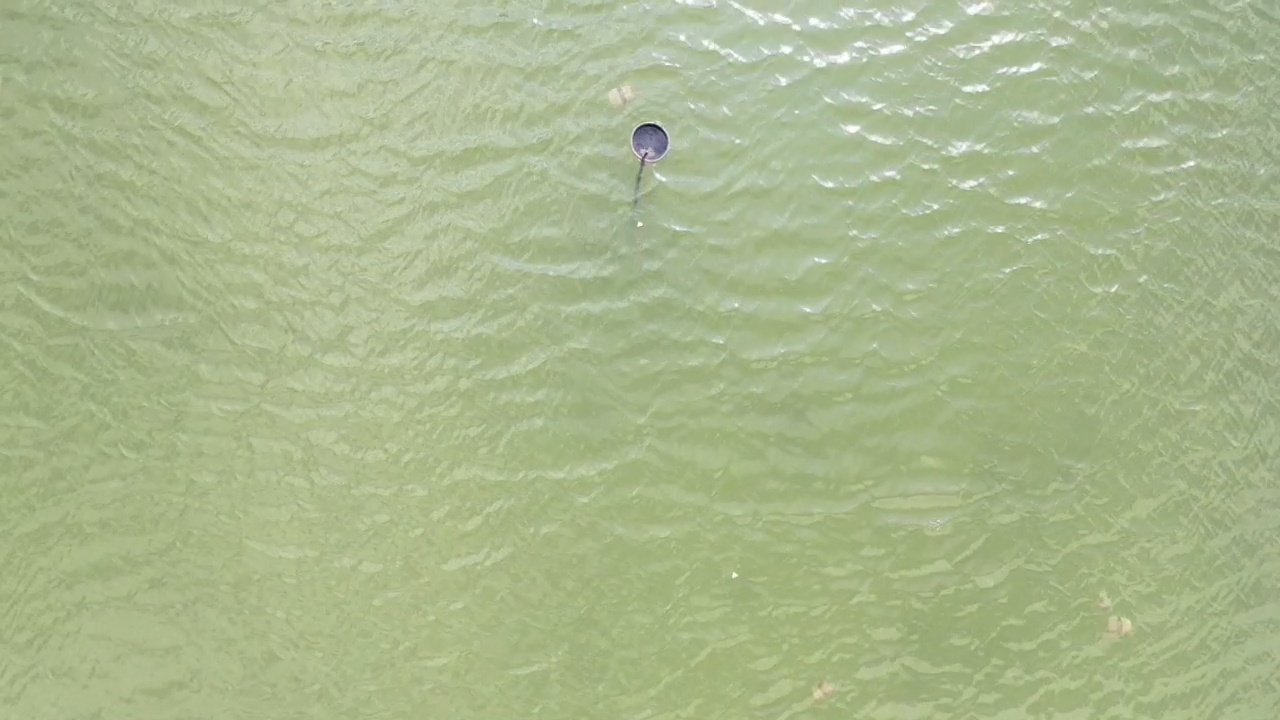meduse: (813, 680, 840, 702), (607, 86, 635, 107), (1111, 616, 1133, 638), (1095, 589, 1111, 607)
